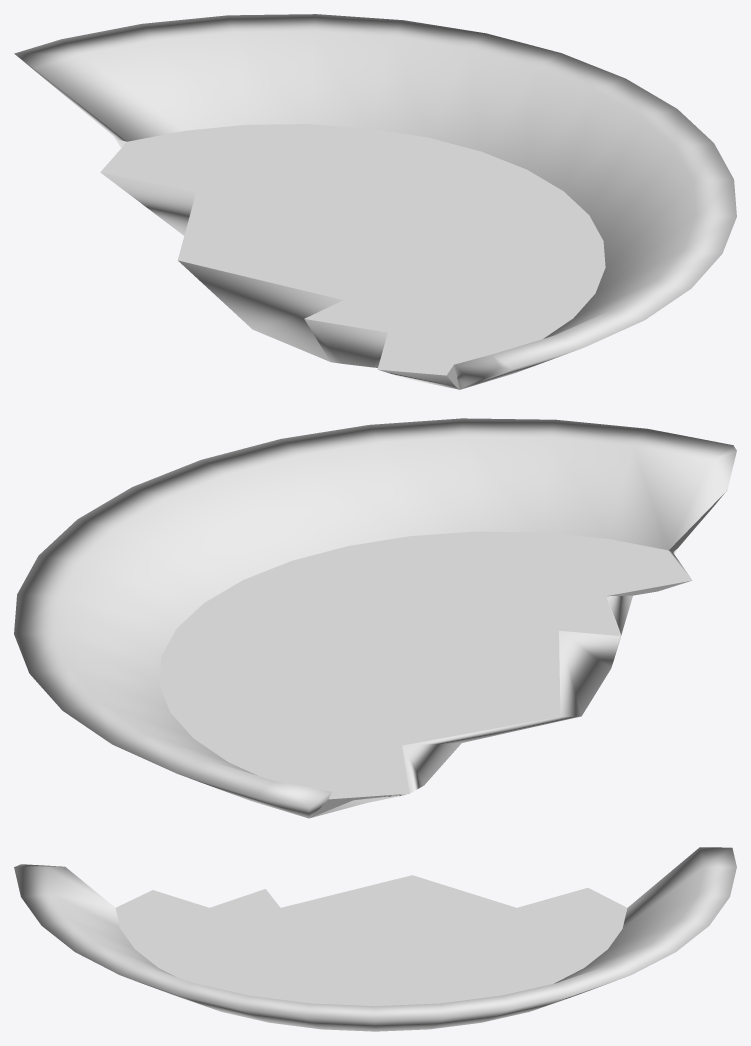
File: MitadPlato2 1.fbx
3 views of the same model, one above another, from view 1: azimuth 30°, elevation 25°; view 2: azimuth 150°, elevation 25°; view 3: azimuth 270°, elevation 25° (orthographic). The views are drawn at different scales.
Visible parts, largest first — view 1: MitadPlato2; view 2: MitadPlato2; view 3: MitadPlato2.
Part boxes in pixels (bbox=[...]): MitadPlato2: bbox=[14, 14, 736, 389]; MitadPlato2: bbox=[14, 418, 736, 818]; MitadPlato2: bbox=[14, 847, 736, 1031].
Bounding box in the file's own units: 159 × 29.68 × 261.
